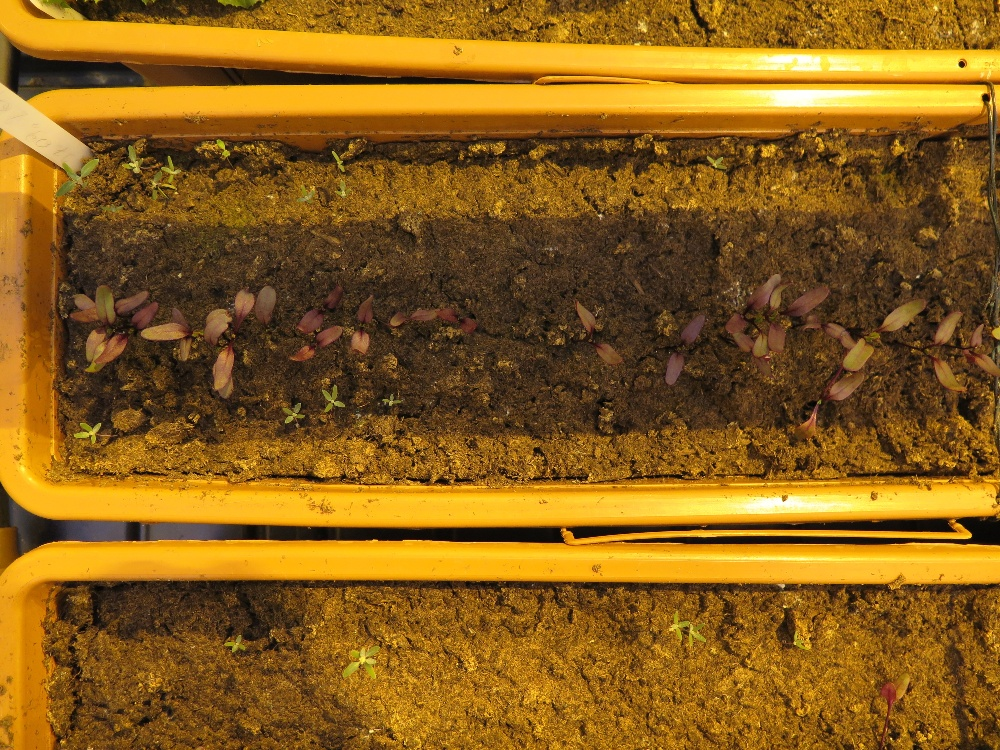crop: (734, 258, 832, 365), (62, 283, 141, 372), (198, 304, 264, 406), (718, 276, 793, 365), (902, 295, 959, 399), (921, 317, 1000, 392), (816, 317, 923, 370), (375, 286, 475, 336), (139, 299, 205, 374), (650, 315, 716, 390), (268, 297, 343, 361), (562, 308, 634, 372), (864, 674, 923, 750), (802, 383, 875, 442), (232, 279, 289, 349), (337, 290, 393, 361)
weed: (116, 142, 180, 199), (55, 149, 107, 213), (307, 151, 364, 208), (334, 629, 387, 690), (657, 595, 712, 649), (184, 140, 239, 172), (700, 145, 727, 181), (223, 633, 243, 661)
